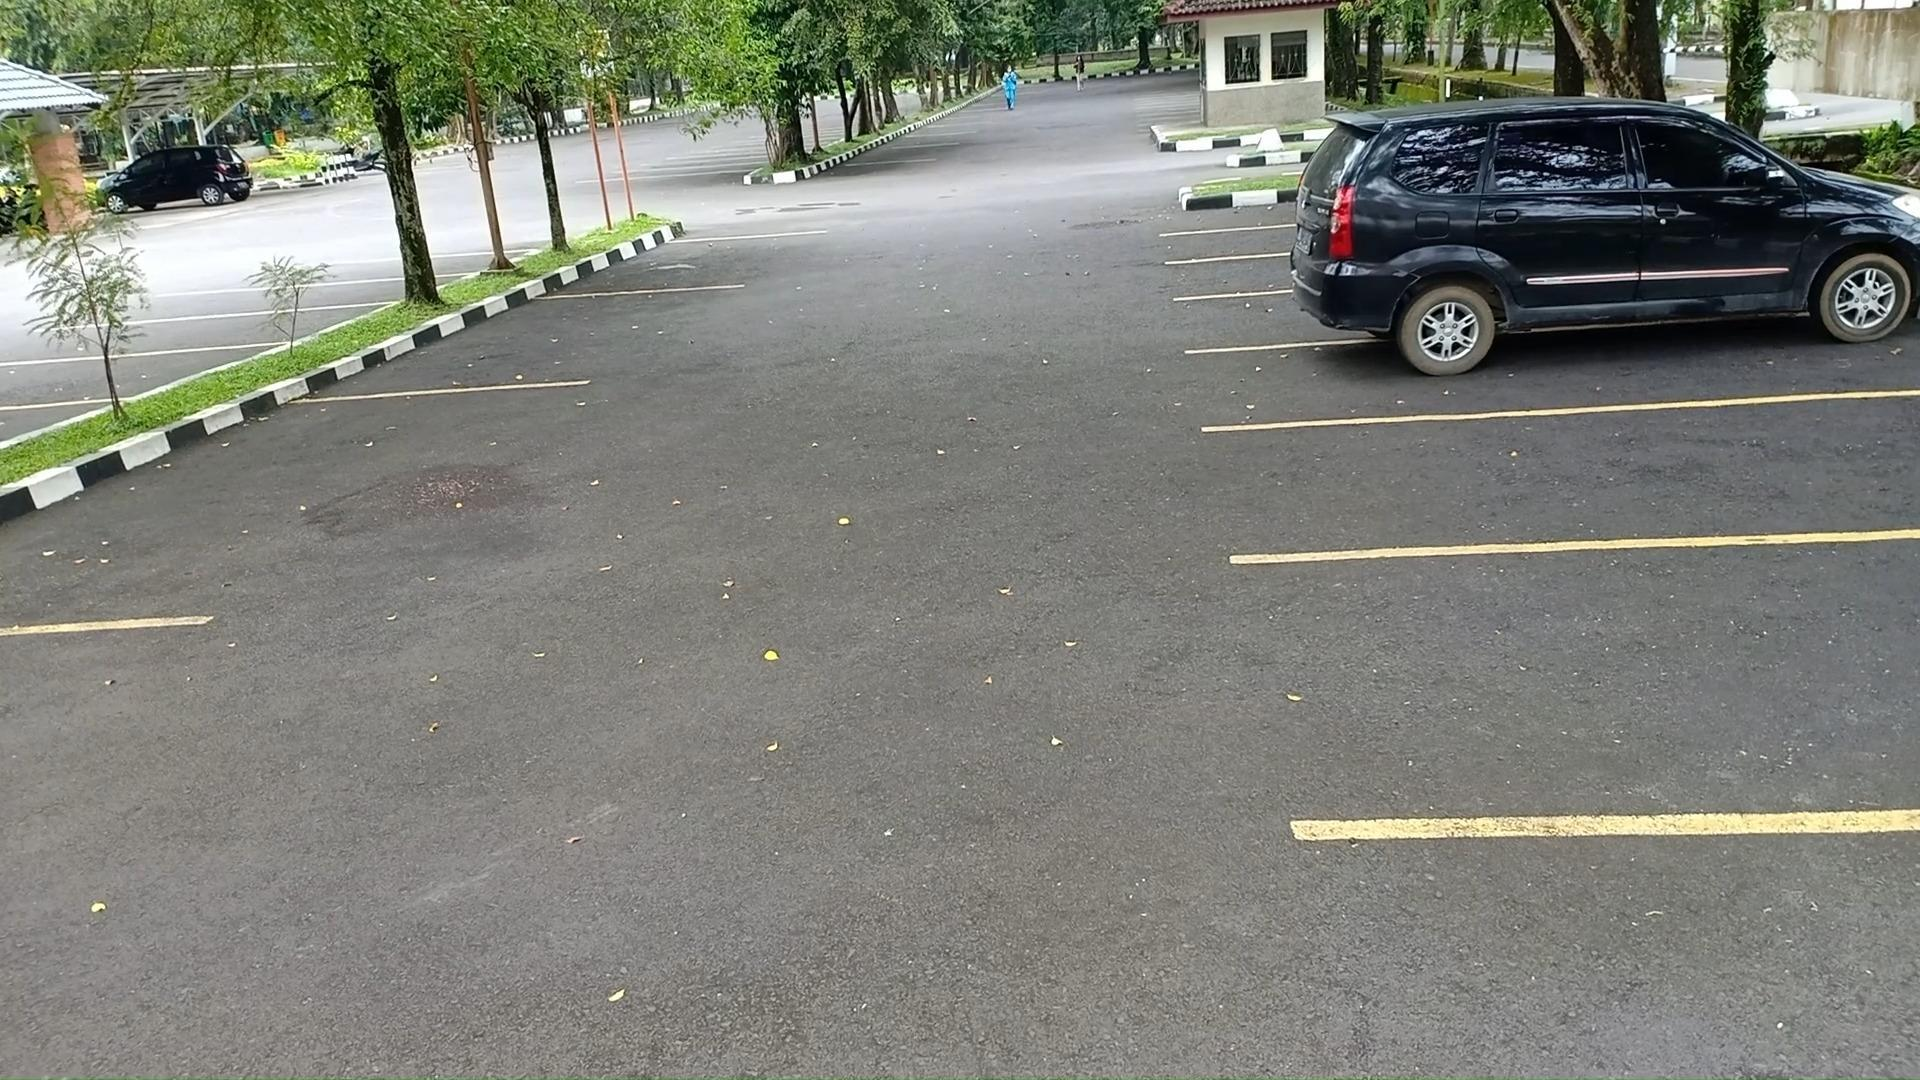empty: (1314, 538, 1920, 832), (113, 387, 564, 629), (1258, 402, 1920, 548), (402, 288, 716, 396), (0, 349, 187, 404), (630, 234, 794, 292), (117, 308, 333, 352), (200, 282, 402, 312)
occupied: (1269, 233, 1920, 420)
